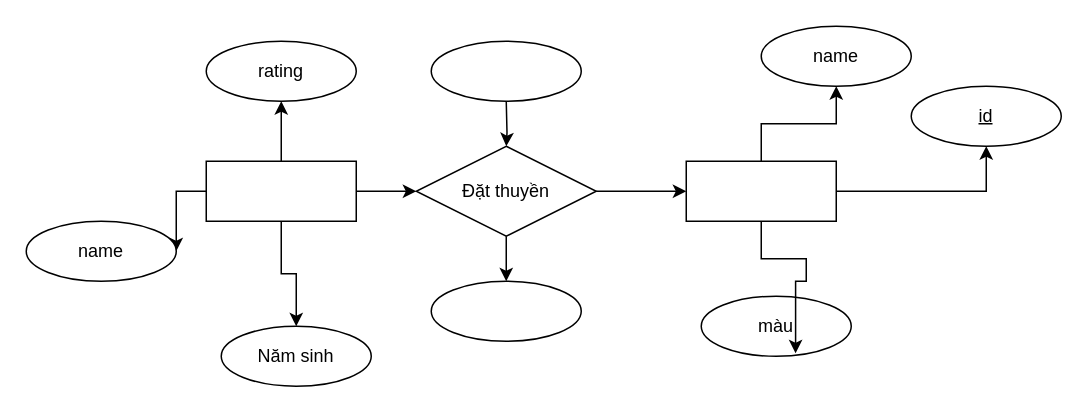
The diagram is 1088 pixels wide and 413 high, and some of its shapes have lost their labels. The box of each missing label's shape, as (x1, y1, x2, y2) in pixels:
id thủy thủ: (430, 40, 581, 101)
ngày tháng: (430, 280, 581, 341)
Thuyền: (685, 160, 836, 221)
Thủy thủ: (205, 160, 356, 221)
